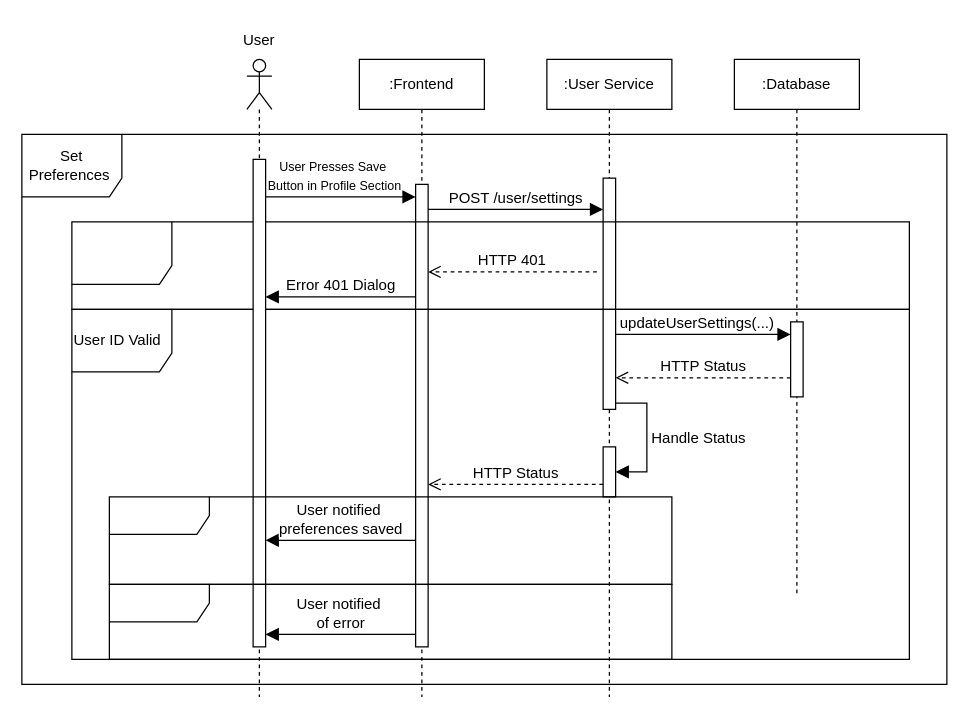
The diagram is 969 pixels wide and 719 high, and some of its shapes have lost their labels. Here are the shapes that lost their labels. From the top down, the centre of each, then its label:
At point (490, 265): "User ID Not Valid".
At point (390, 540): "Status = 200".
At point (390, 621): "Status != 200".
